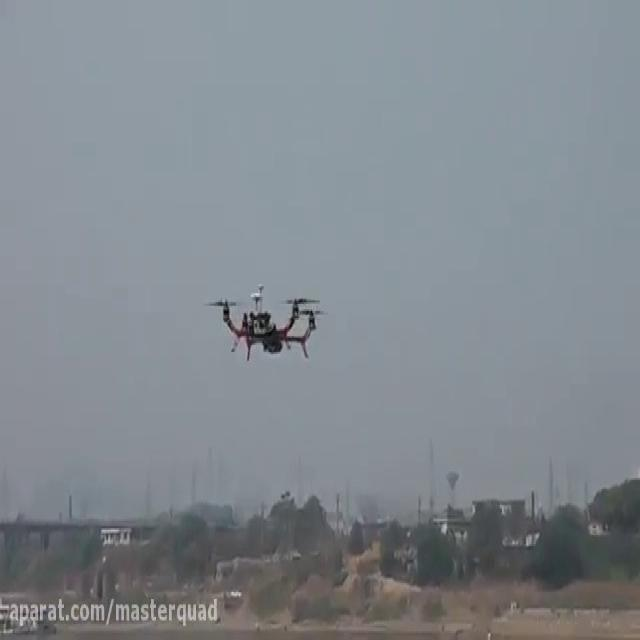drone: (199, 279, 332, 363)
